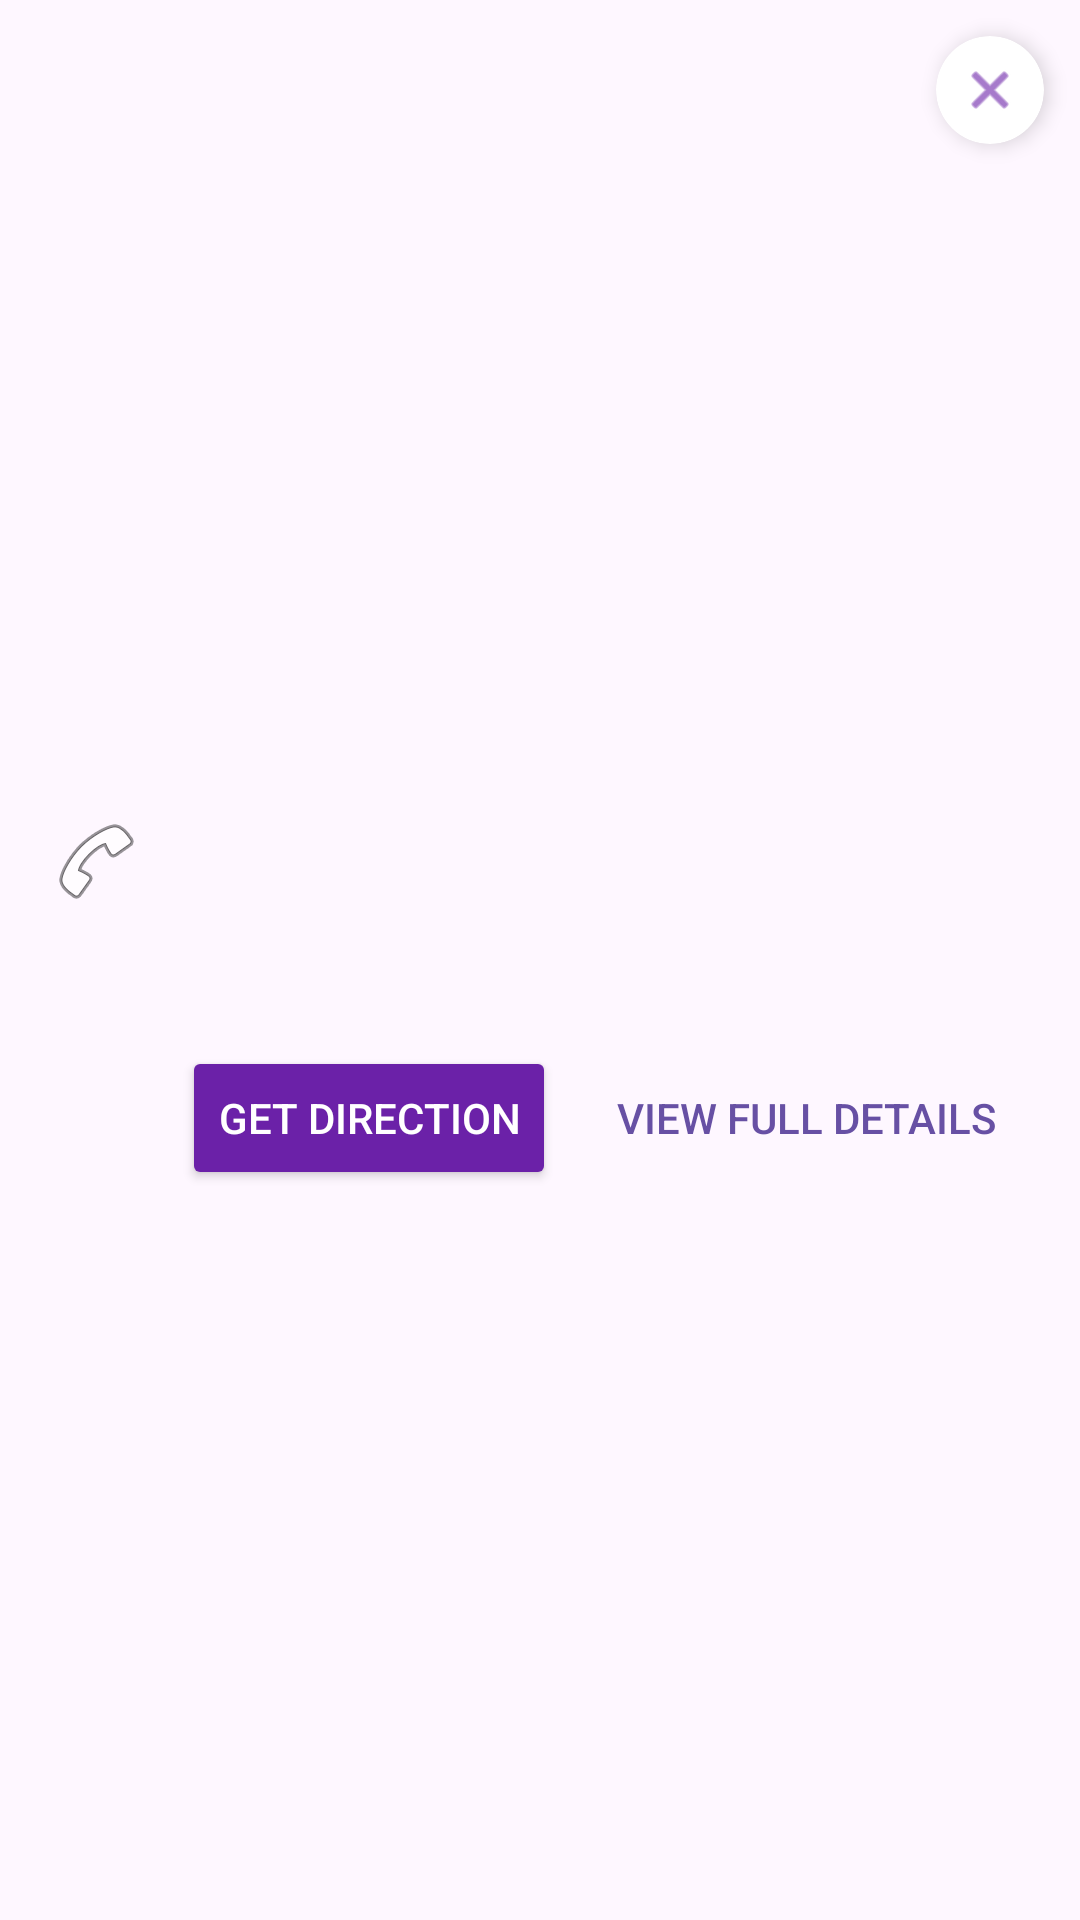

Screen size 1080w x 1920h. Icon name, then its box in pixels as (x1, y1, x2, y2):
Close: (936, 36, 1044, 144)
